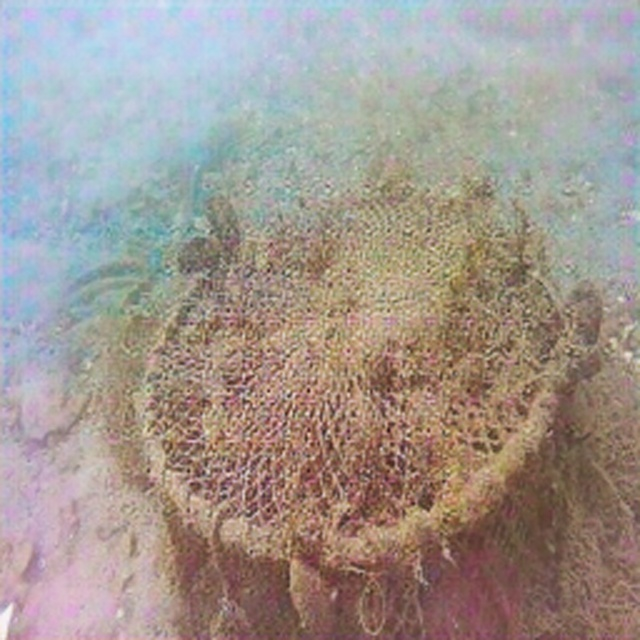mine: (136, 182, 568, 639)
